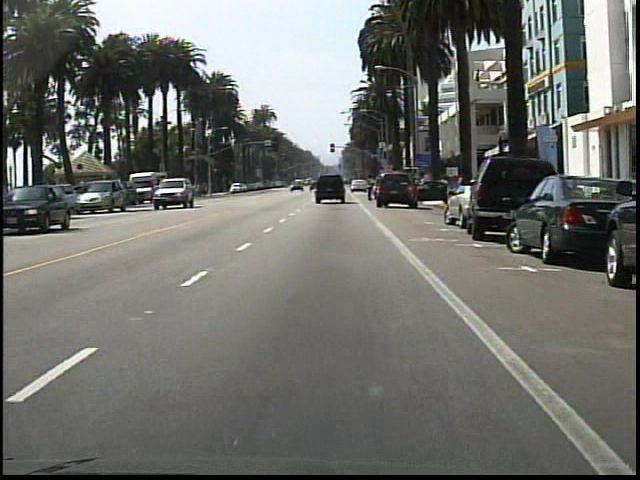person: (363, 173, 379, 204)
